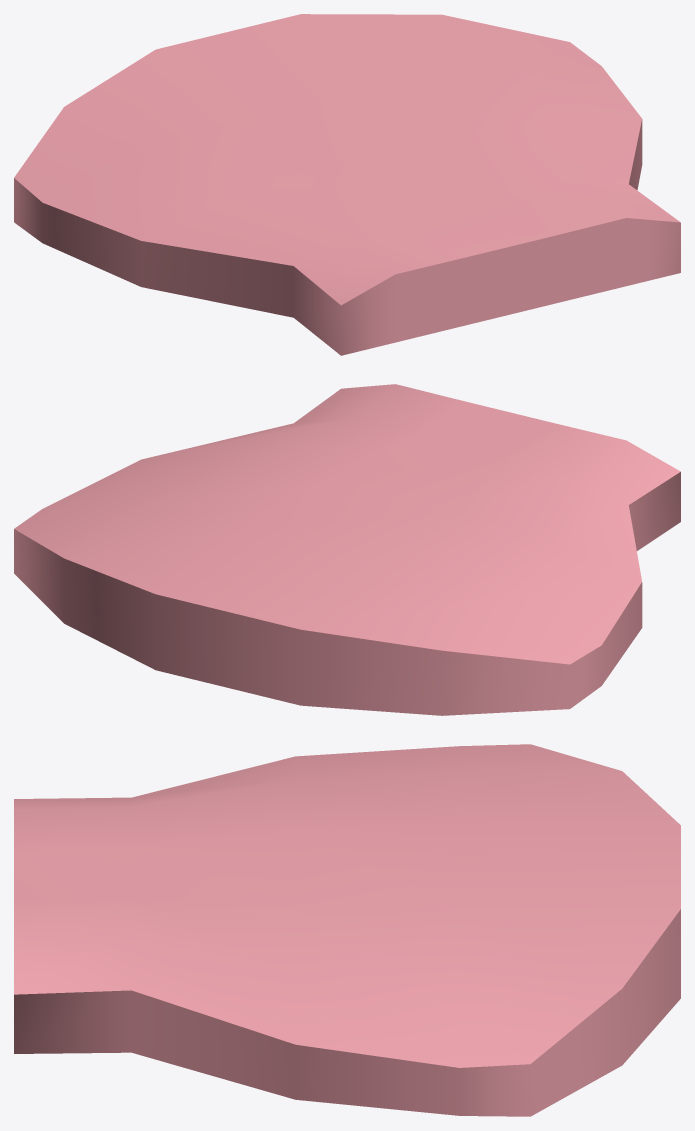
The model's file is concha02.fbx.
3 views of the same model, one above another, from view 1: azimuth 30°, elevation 25°; view 2: azimuth 150°, elevation 25°; view 3: azimuth 270°, elevation 25° (orthographic). The views are drawn at different scales.
Parts seen in each view (by area): view 1: concha02; view 2: concha02; view 3: concha02.
Part boxes in pixels (x1=…): concha02: x1=14, y1=14, x2=680, y2=355; concha02: x1=14, y1=384, x2=680, y2=715; concha02: x1=14, y1=744, x2=680, y2=1116.
Size of the model in its own units: 10.32 by 1.34 by 9.04.
